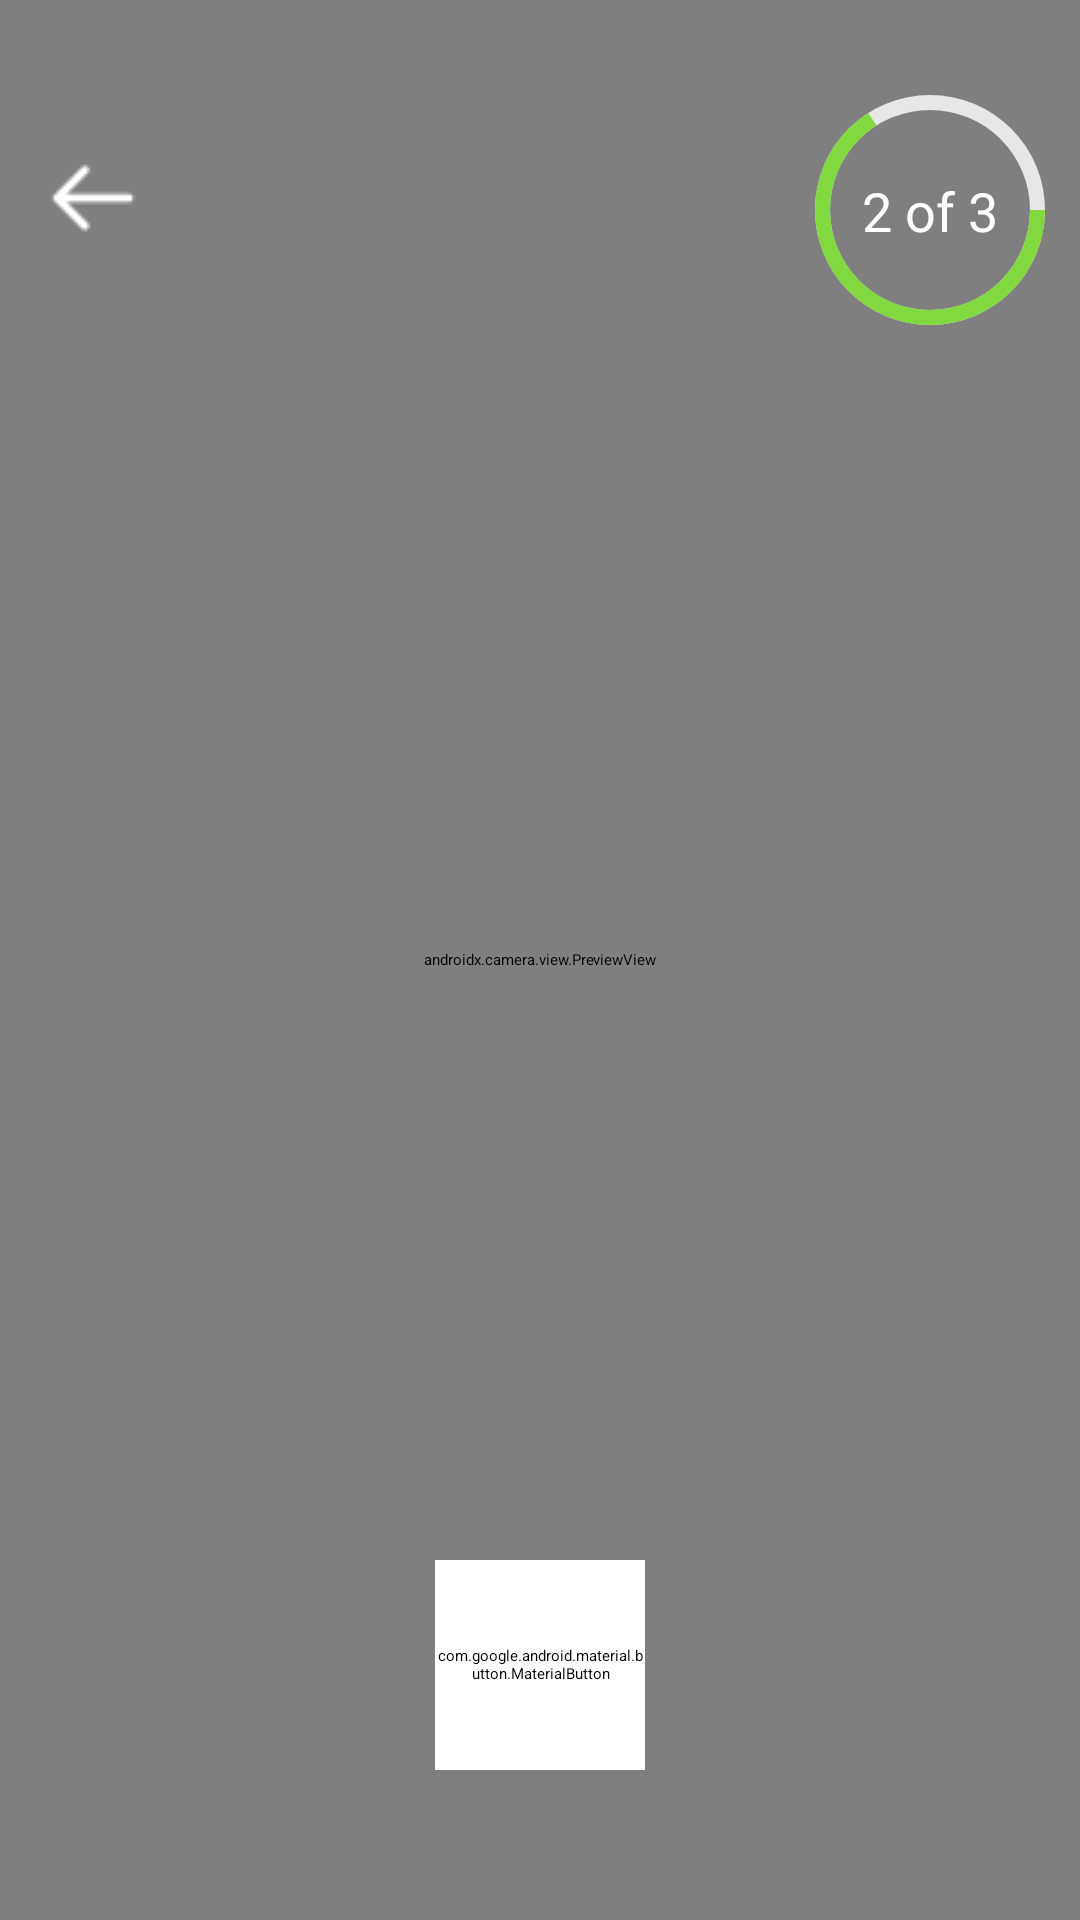

Where to tap for icons on this 1080 x 1920 app screen, as point (x, y):
left arrow: point (93, 198)
